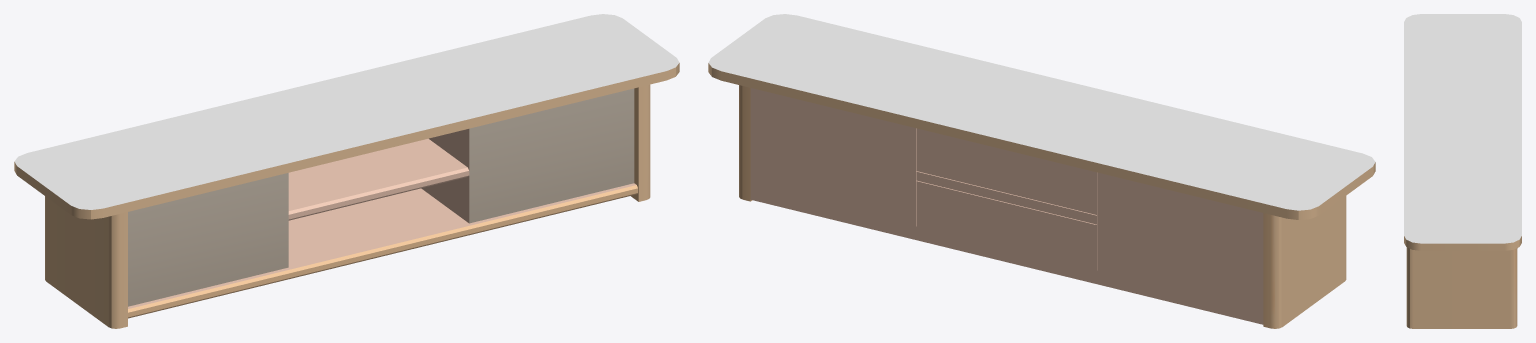
The model's file is Table New.fbx.
3 views of the same model, side by side, from view 1: azimuth 30°, elevation 25°; view 2: azimuth 150°, elevation 25°; view 3: azimuth 270°, elevation 25° (orthographic). The views are drawn at different scales.
Visible parts, largest first — view 1: Table; view 2: Table; view 3: Table.
Part boxes in pixels (<box>): Table: <box>14,14,679,328</box>; Table: <box>708,14,1375,328</box>; Table: <box>1404,14,1521,328</box>.
Size of the model in its own units: 202 by 40 by 43.75.
1 material, 1 textured.
